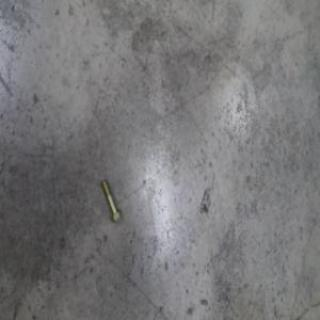Bolttrack_idkeyframe: (100, 176, 120, 224)
